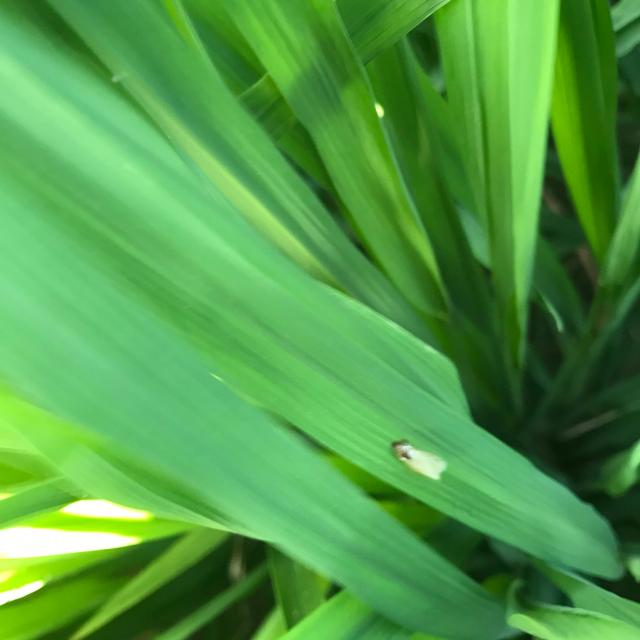rice leaf roller -penggulung daun padi-: (3, 2, 636, 636)
wereng pada daun padi: (388, 437, 448, 482)
